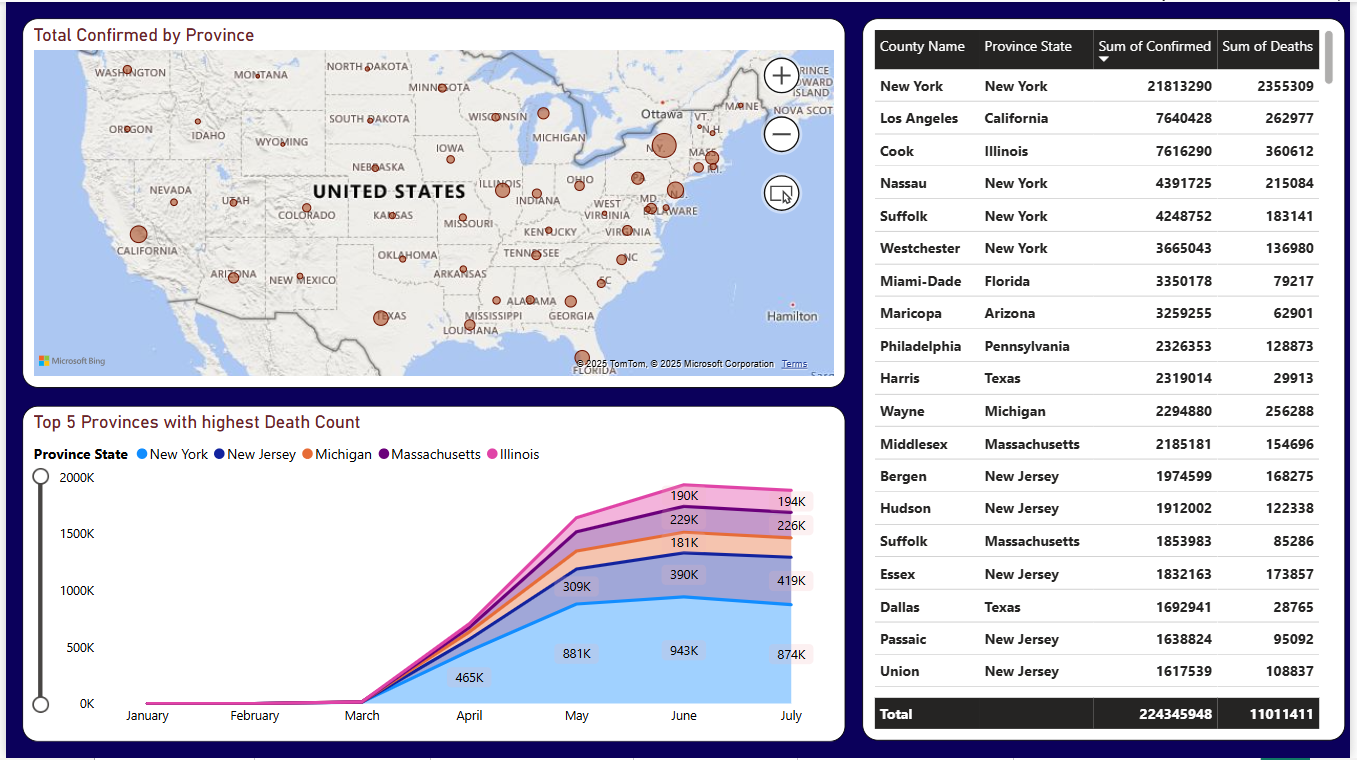

Layout of this report page (visuals, bound fields, positions):
{"tool":"powerbi","page":{"name":"US Focus (County/State)","canvas":[1280,720],"ordinal":4},"visuals":[{"type":"map","title":"Total Confirmed by Province","fields":{"Size":["Sum(USACountyDaily.Confirmed)"],"Category":["USACountyDaily.Province_State Hierarchy.Province_State","USACountyDaily.Province_State Hierarchy.County_Name"]},"box":[16,16,784,352],"z":0},{"type":"stackedAreaChart","title":"Top 5 Provinces with highest Death Count","fields":{"Category":["USACountyDaily.Date.Variation.Date Hierarchy.Month"],"Y":["Sum(USACountyDaily.Deaths)"],"Series":["USACountyDaily.Province_State"]},"box":[16,384,784,320],"z":1000},{"type":"tableEx","fields":{"Values":["USACountyDaily.County_Name","USACountyDaily.Province_State","Sum(USACountyDaily.Confirmed)","Sum(USACountyDaily.Deaths)"]},"box":[816,16,460,688],"z":3000}]}

Visuals, with their boxes in screenshot pixels (x1, y1, x2, y2), scaled from the page's 1280x720 canvas onto the 1357x760 screenshot:
"Total Confirmed by Province" map: <region>17, 17, 848, 388</region>
"Top 5 Provinces with highest Death Count" stackedAreaChart: <region>17, 405, 848, 743</region>
tableEx - USACountyDaily.County_Name x USACountyDaily.Province_State: <region>865, 17, 1353, 743</region>
